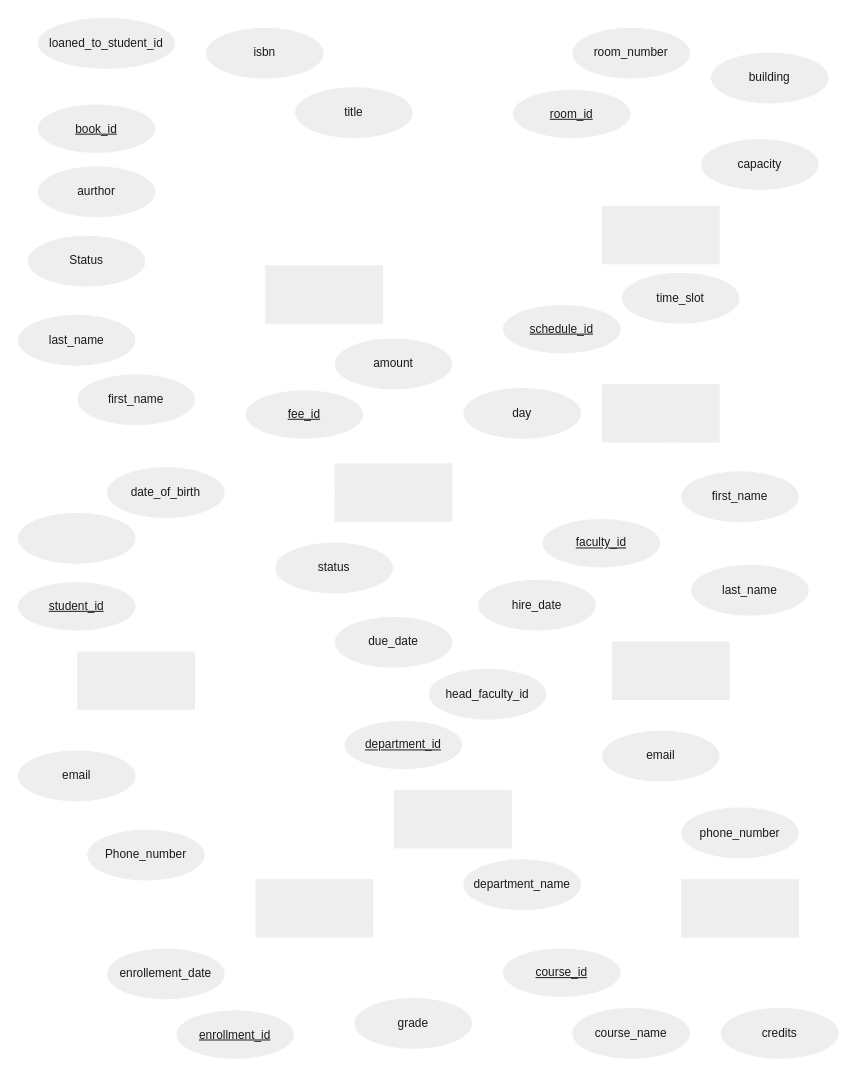
Some shapes in this 856 by 1077 pixel diagram are drawn without their labels. The box of each missing label's shape, as (x1, y1, x2, y2) in pixels:
Classroom: (600, 204, 720, 265)
Courses: (680, 878, 799, 938)
Department: (393, 789, 512, 849)
Enrollments: (254, 878, 374, 938)
Faculty: (610, 640, 730, 700)
Fee: (333, 462, 453, 522)
Library: (264, 264, 384, 324)
name: (16, 511, 136, 564)
Schedule: (600, 383, 720, 443)
Student: (76, 650, 196, 710)
